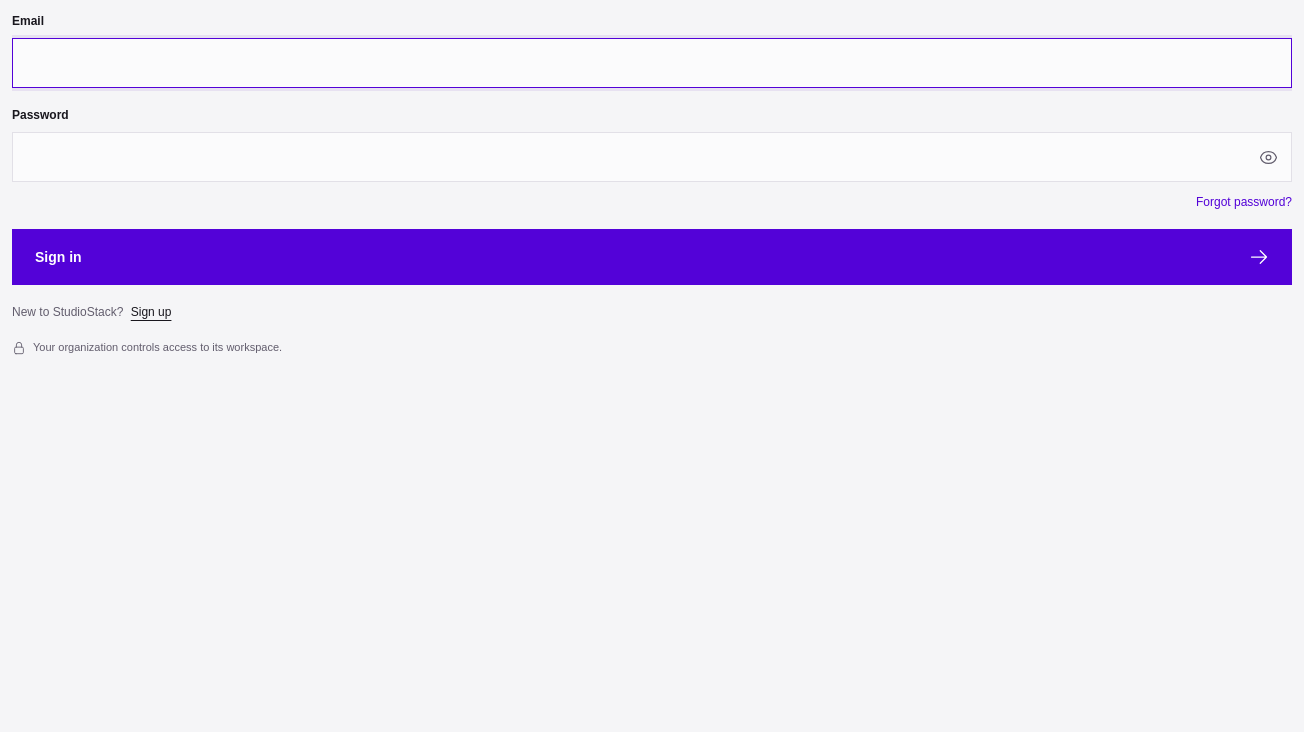
Inline StudioStack authentication › creates an account, clears its password and verifies email before sign-in
Click the button "Sign up".
click(151, 312)  # box top-left (131, 303), bottom-right (171, 321)
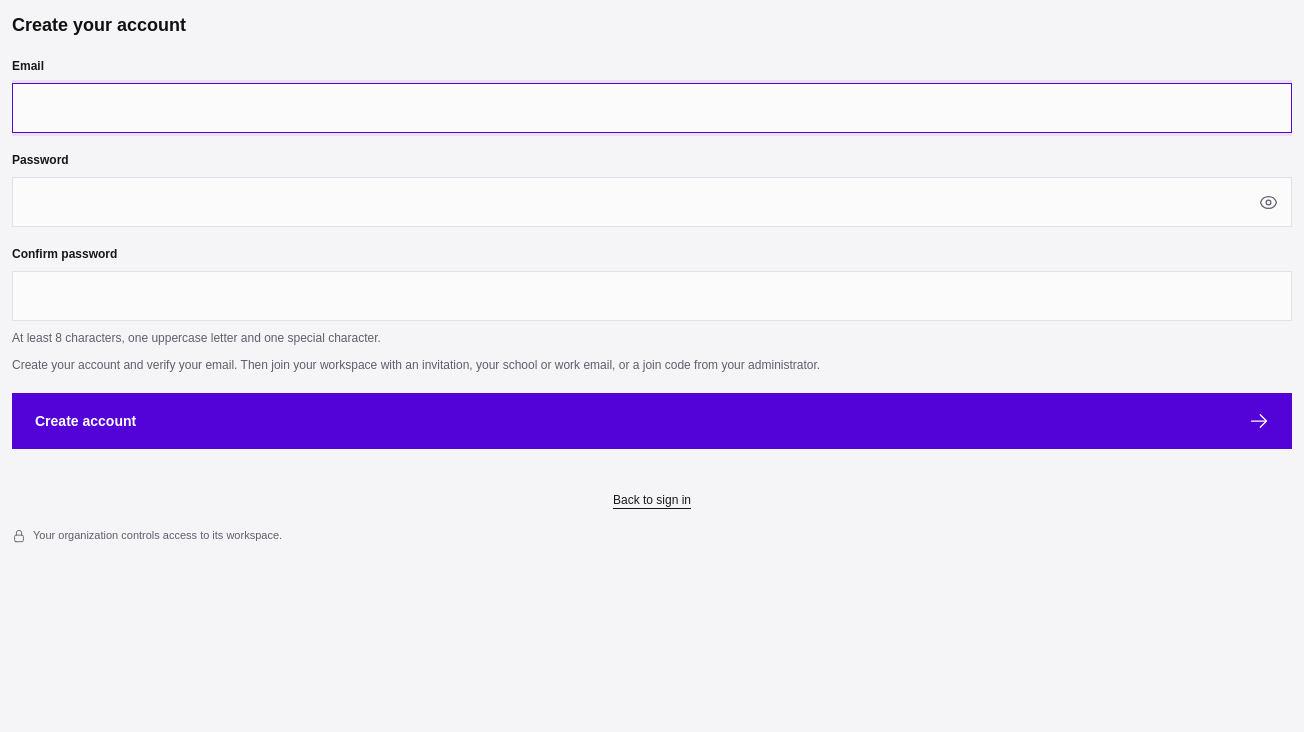
Type "new@example.test" into the field labelled "Email".
click(652, 108); type("new@example.test")  # box top-left (12, 83), bottom-right (1292, 133)
Type "NEWPASS!" into the password field labelled "Password".
click(652, 202); type("NEWPASS!")  # box top-left (12, 177), bottom-right (1292, 227)
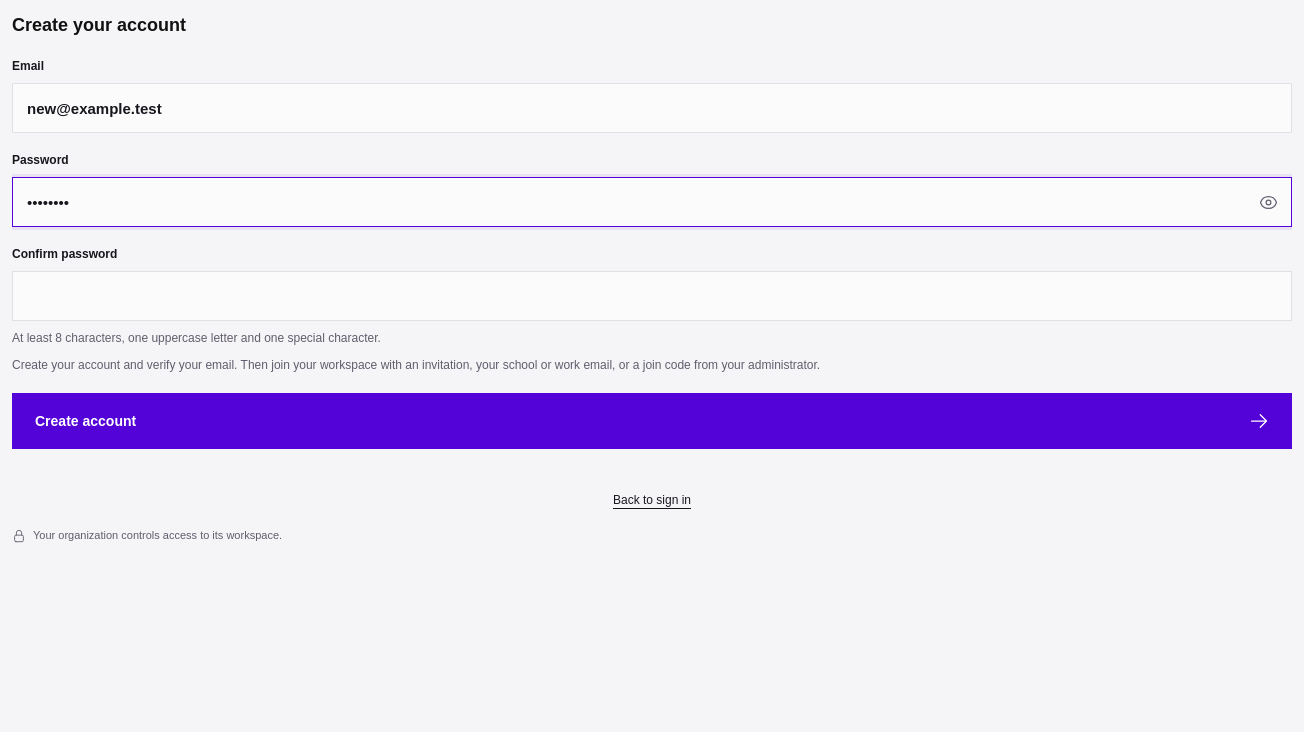
Type "NEWPASS!" into the password field labelled "Confirm password".
click(652, 296); type("NEWPASS!")  # box top-left (12, 271), bottom-right (1292, 321)
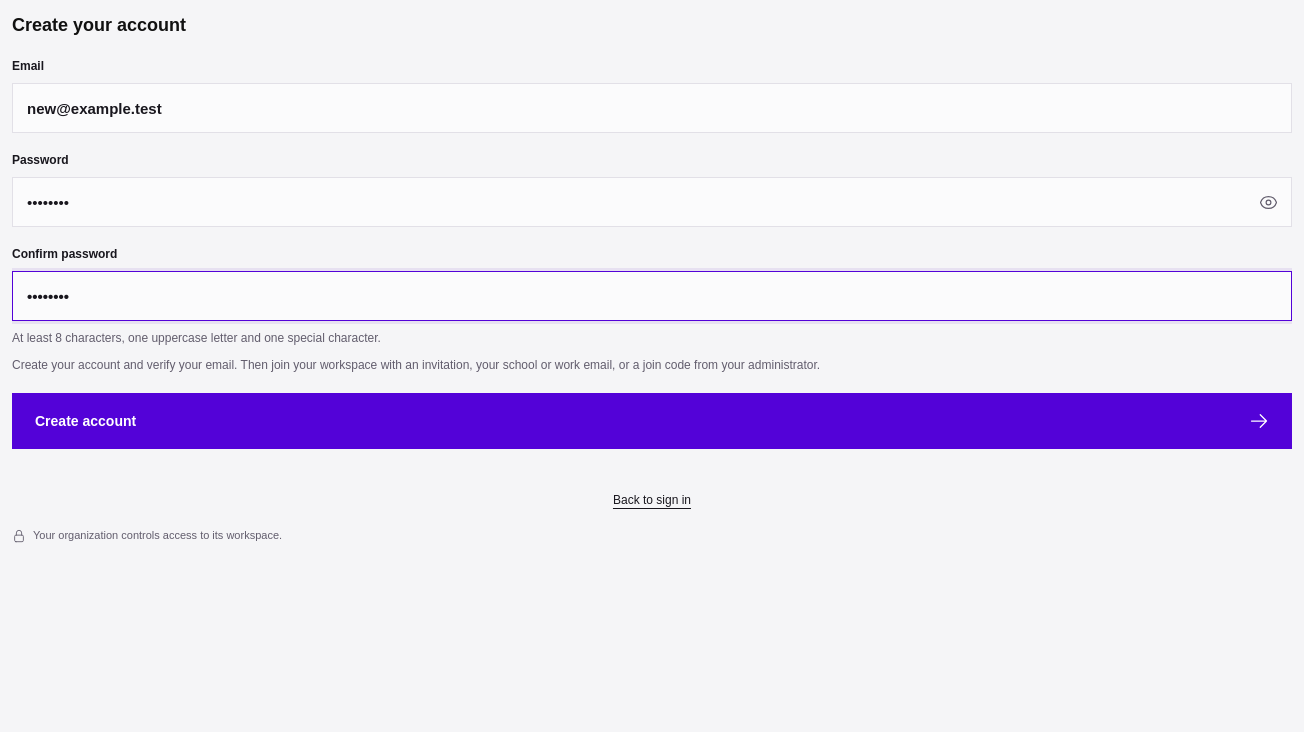
Click the button "Create account".
click(86, 421)  # box top-left (12, 393), bottom-right (1292, 449)
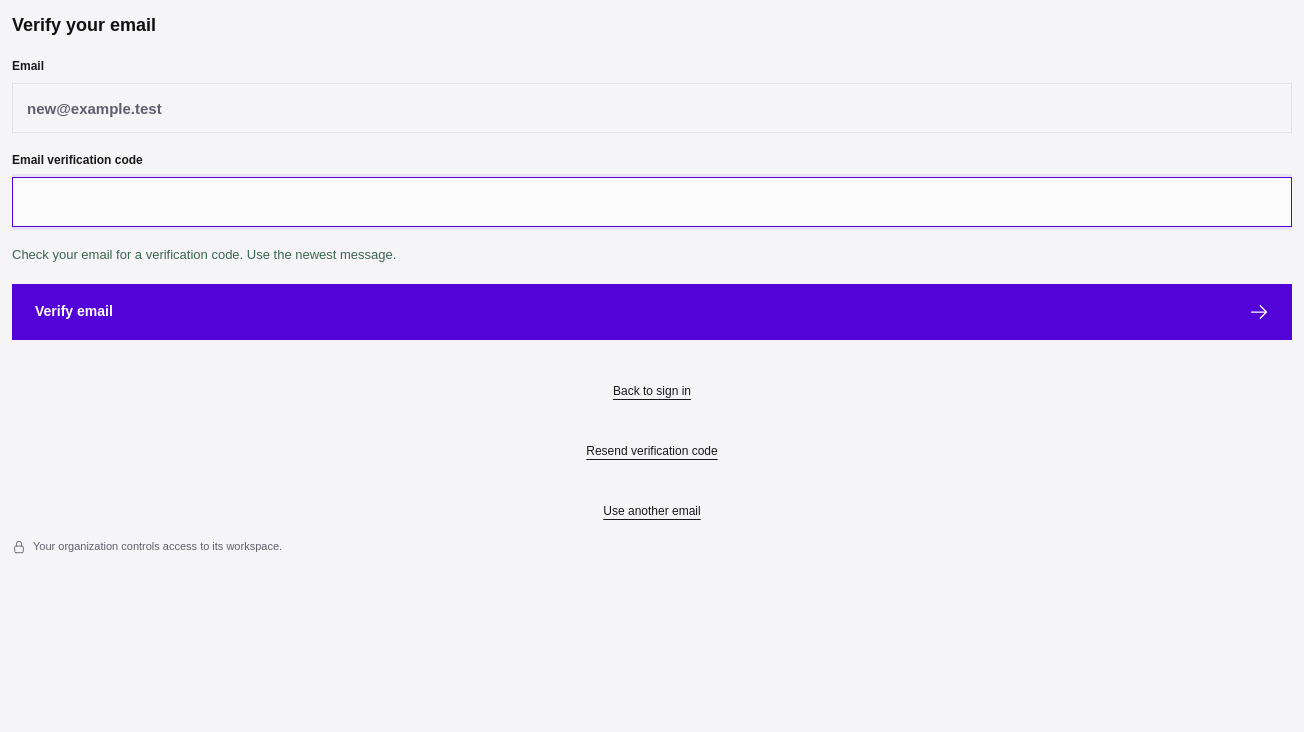
Expected: the field labelled "Email verification code" is shown
Expected: the label labelled "Password" is gone
Type "123456" into the field labelled "Email verification code".
click(652, 202); type("123456")  # box top-left (12, 177), bottom-right (1292, 227)
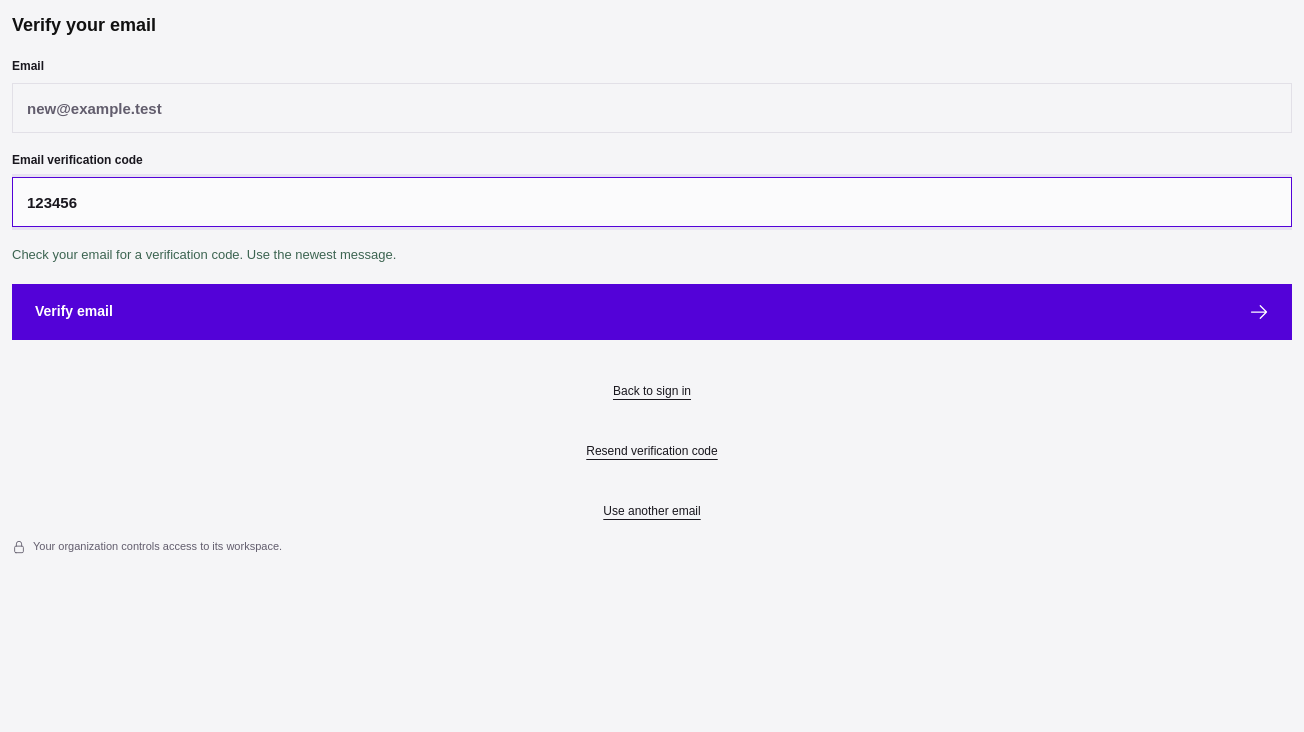
Click the button "Verify email".
click(74, 311)  # box top-left (12, 284), bottom-right (1292, 340)
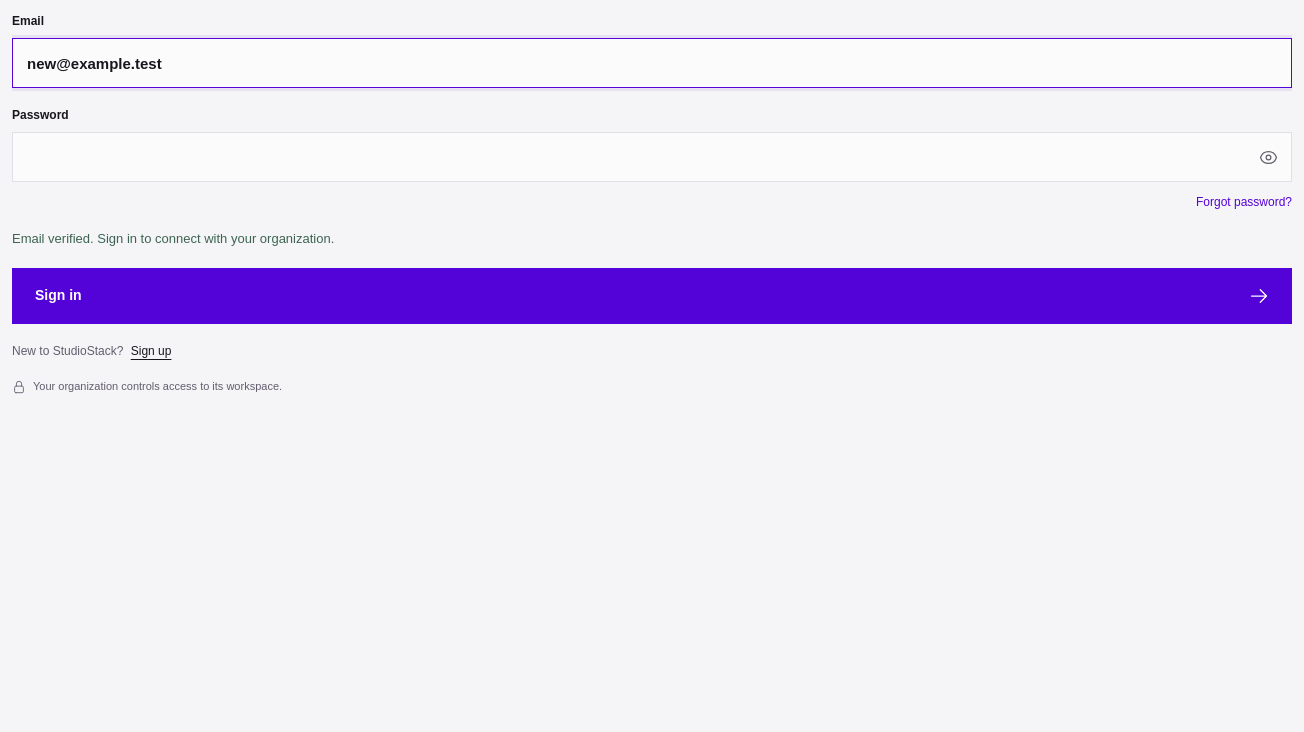
Expected: the message shows "Email verified", top-left (12, 231), bottom-right (334, 246)
Expected: the password field labelled "Password" is empty, top-left (12, 132), bottom-right (1292, 182)
